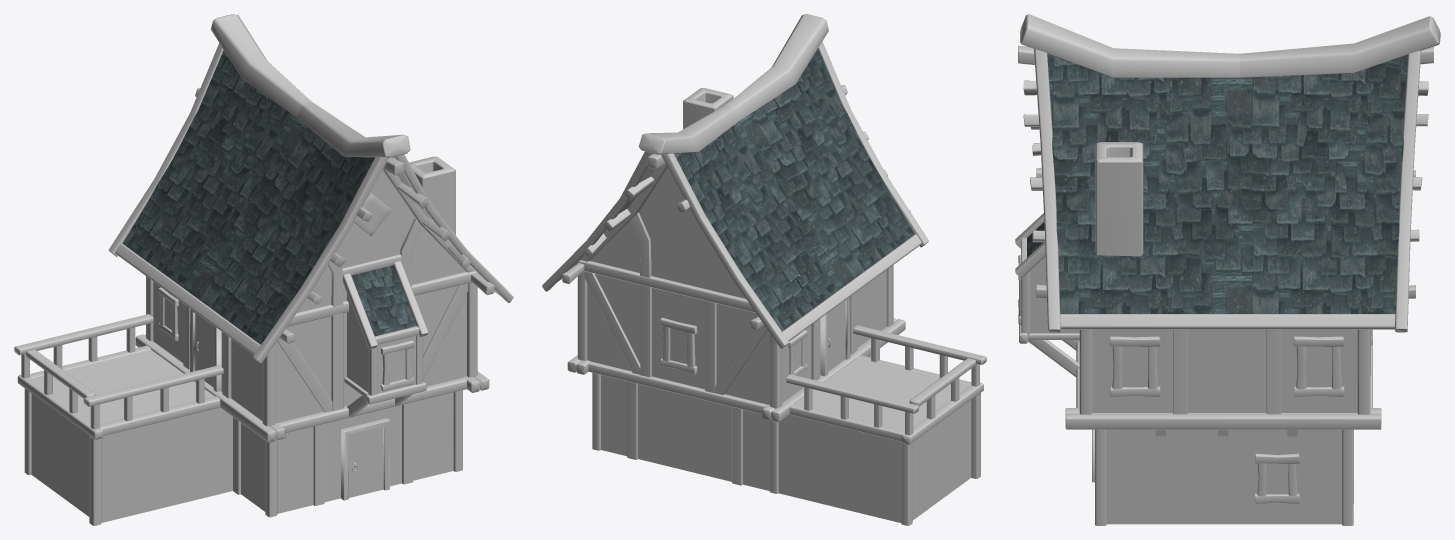
File: house23.fbx
3 views of the same model, side by side, from view 1: azimuth 30°, elevation 25°; view 2: azimuth 150°, elevation 25°; view 3: azimuth 270°, elevation 25° (orthographic). The views are drawn at different scales.
Parts seen in each view (by area): view 1: house23; view 2: house23; view 3: house23.
Boxes of the visible parts, x1,y1,x2,y2 form: house23: (14,14,513,525); house23: (542,14,986,525); house23: (1015,14,1440,525).
Bounding box in the file's own units: 1295 × 1258 × 1077.
